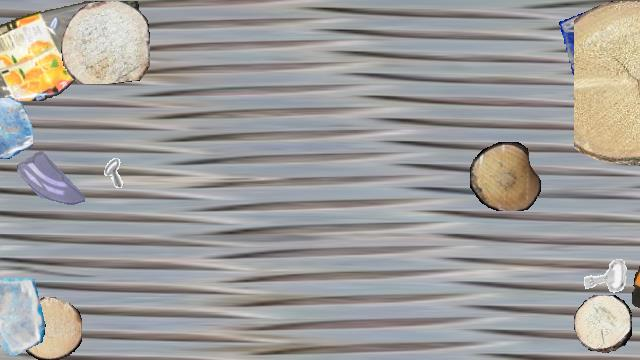glass: (559, 1, 640, 93), (17, 144, 85, 212), (0, 273, 45, 359), (0, 98, 32, 158)
metal: (578, 248, 634, 304), (79, 153, 125, 199), (631, 93, 640, 151)
plastic: (0, 1, 144, 101), (632, 247, 640, 359)
wood: (574, 1, 640, 169), (61, 1, 149, 83), (470, 142, 540, 210), (20, 297, 82, 359), (574, 295, 632, 353)
